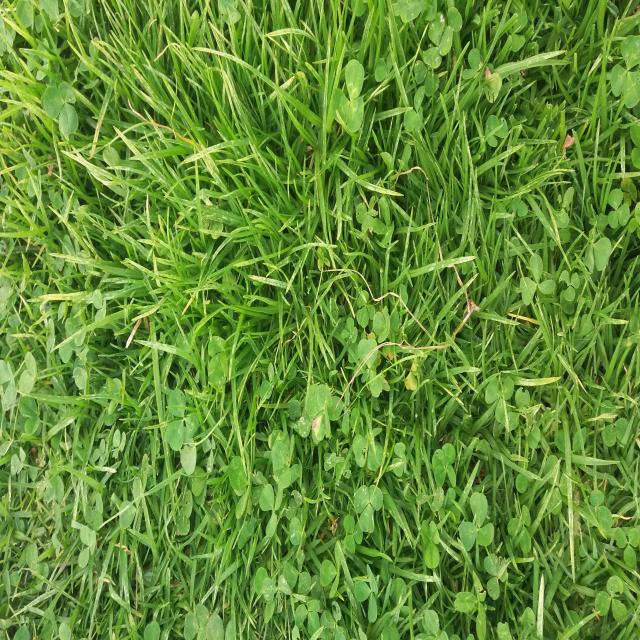Four Leaf Clover: (304, 384, 344, 440)
